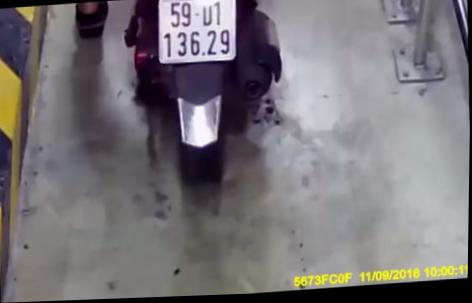LP: (157, 0, 239, 67)
